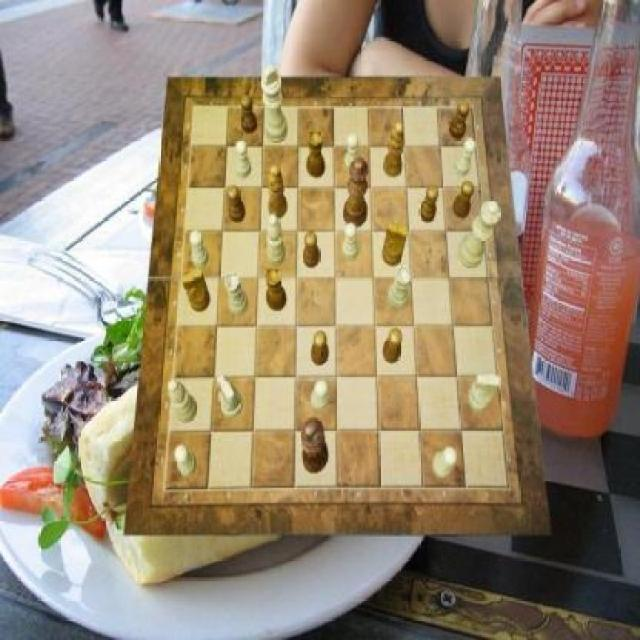bishop: (383, 122, 404, 176), (270, 165, 288, 219)
black-bishop: (300, 418, 328, 474)
black-king: (182, 268, 210, 312), (383, 221, 409, 267)
black-knight: (452, 180, 475, 218), (449, 102, 470, 140), (227, 185, 246, 222), (420, 185, 439, 222), (383, 329, 402, 364), (303, 231, 320, 268), (242, 95, 258, 134), (311, 331, 328, 365)
black-pawn: (343, 157, 369, 229)
black-queen: (265, 268, 287, 312), (306, 131, 326, 178)
black-rook: (168, 378, 198, 422), (266, 214, 286, 266)
white-bishop: (262, 64, 288, 144)
white-king: (468, 374, 500, 412), (217, 372, 241, 418)
white-knight: (454, 138, 476, 177), (432, 448, 457, 480), (175, 444, 198, 478), (344, 134, 362, 174), (190, 231, 208, 269), (342, 223, 359, 262), (311, 380, 330, 412), (236, 140, 252, 178)
white-pawn: (458, 200, 501, 268)
white-queen: (224, 272, 248, 316), (388, 266, 410, 310)
